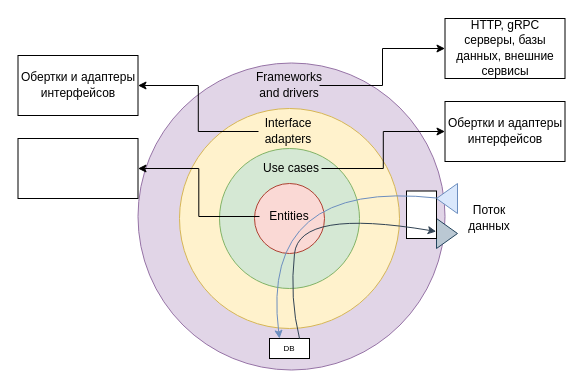
This 582x387 diagram has some shape labels left out. Each missing label, with the centre of its shape:
"Handler" goes at pixel 421 214.
"Доменные сущности и ошибки" goes at pixel 77 168.
